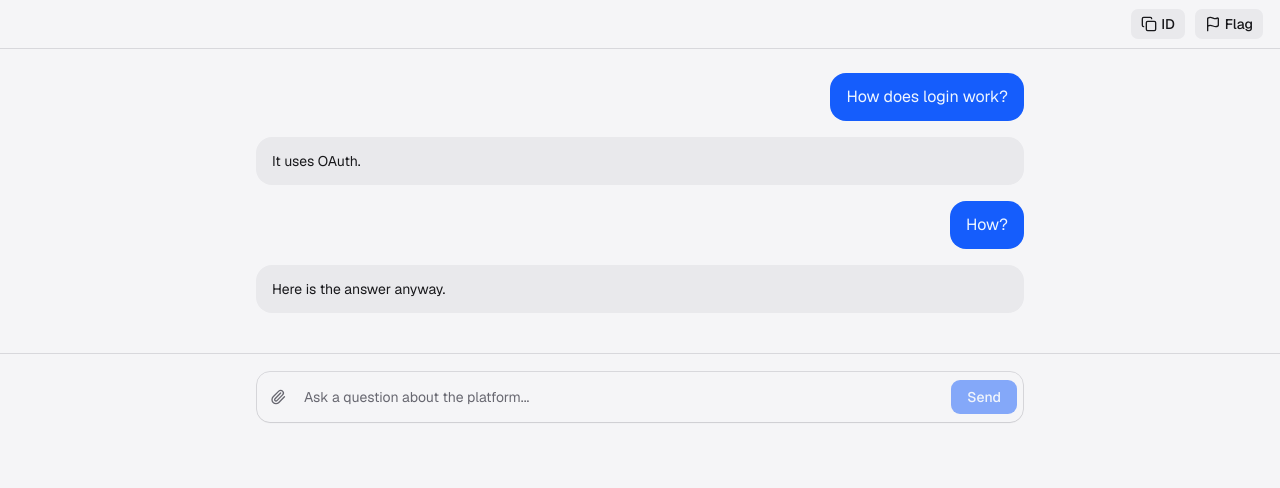
Scenario: ChatThread › shows a notice when a linked MCP server drops out of the turn
The width and height of the screenshot is (1280, 488).
Check: the text "It uses OAuth." is shown, box [272, 152, 361, 170]
Type "How?" into the text box named "message".
click(622, 397); type("How?")  # box [294, 379, 950, 415]
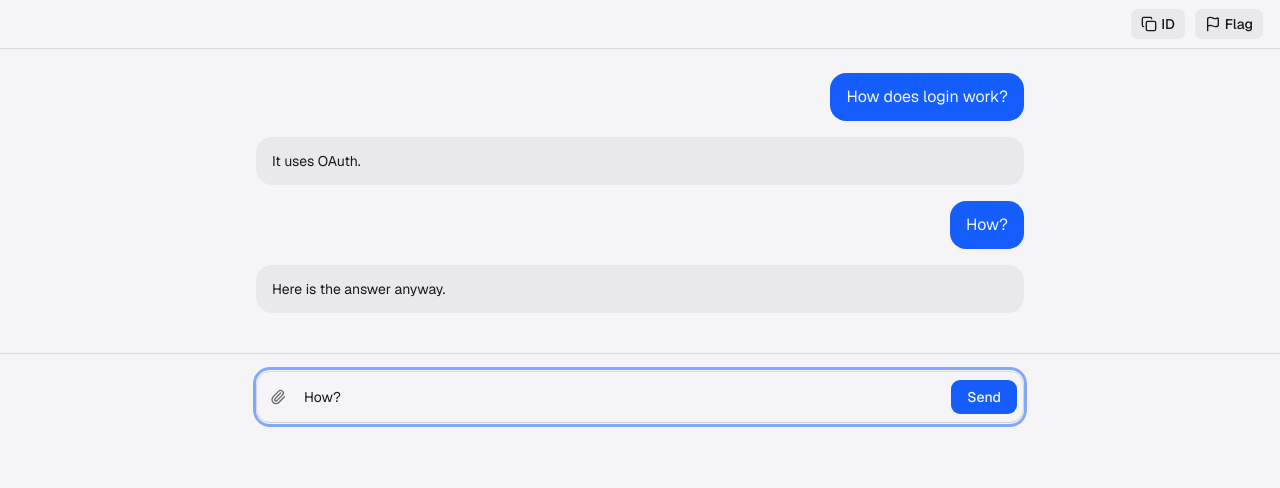
Click the button "Send".
click(984, 397)  # box [950, 379, 1018, 415]
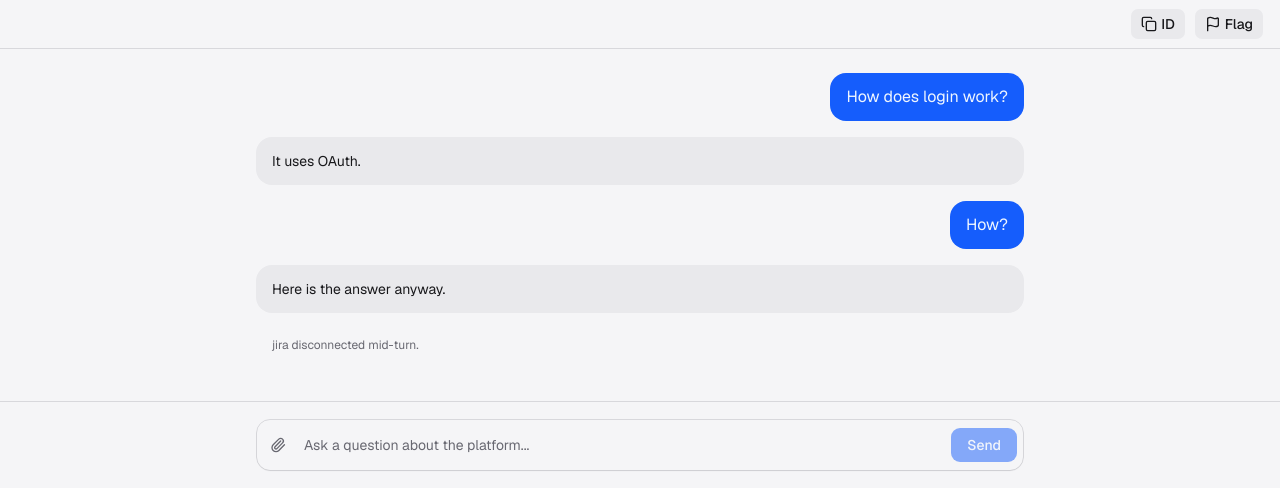
Check: the text "Here is the answer anyway." is shown, box [272, 280, 445, 298]
Check: the text "jira disconnected mid-turn." is shown, box [272, 337, 419, 353]
